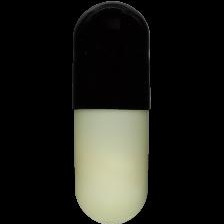21695-300: (0, 0, 224, 224)
